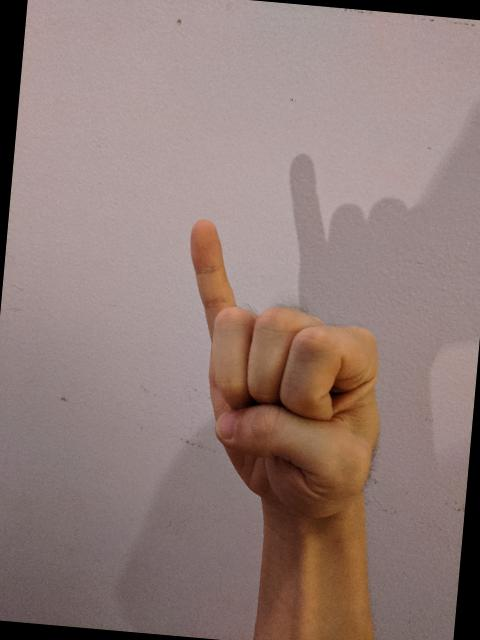I: (162, 212, 402, 526)
